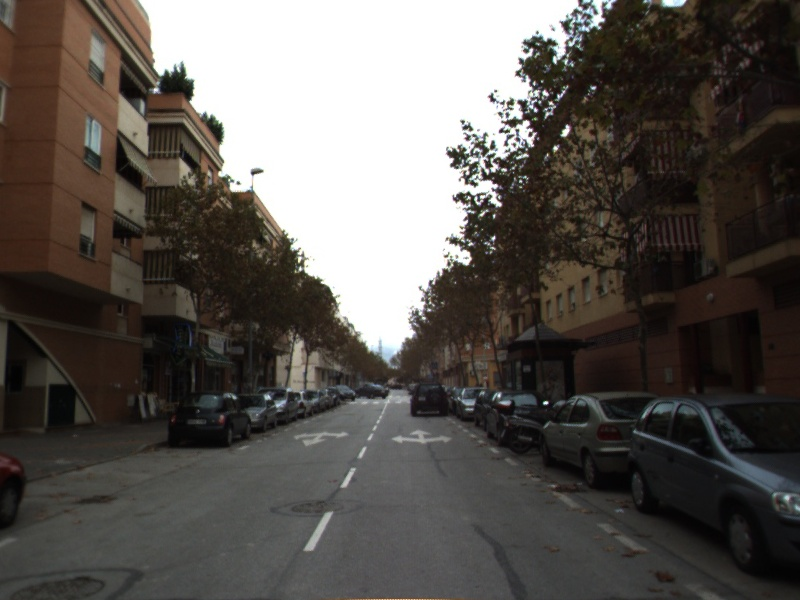STRAIGHT_LEFT_RIGHT: (390, 427, 454, 446)
